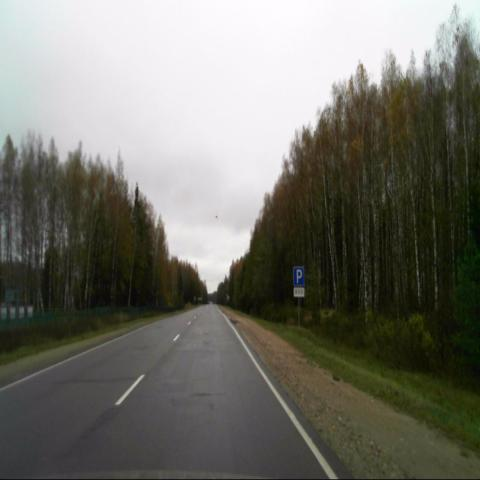6_4: (292, 266, 305, 288)
